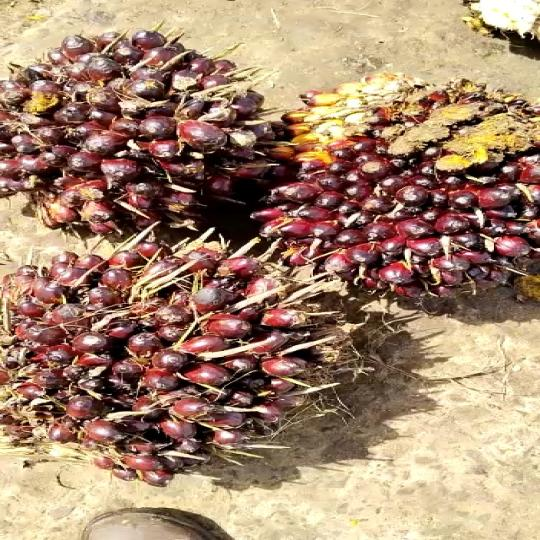kurang masak: (0, 235, 389, 476), (258, 69, 540, 306), (13, 41, 322, 226)
